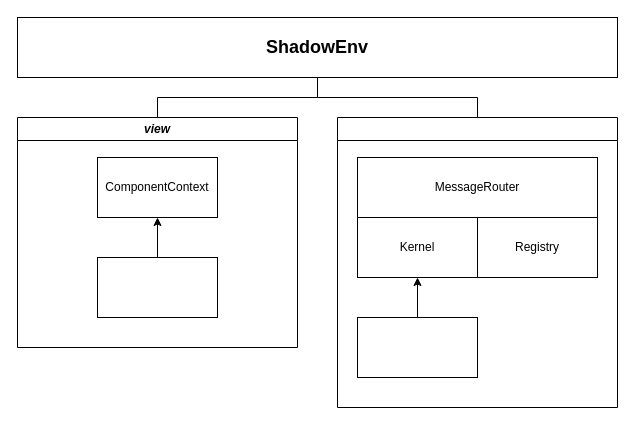
Some shapes in this 635 by 425 pixel diagram are drawn without their labels. The shapes that lost their labels are listed below. From the top down, each one's box as (x1, y1, x2, y2) in pixels, then its label:
(336, 116, 618, 408): shadow object environment
(96, 256, 218, 318): view components
(356, 316, 478, 378): shadow objects
